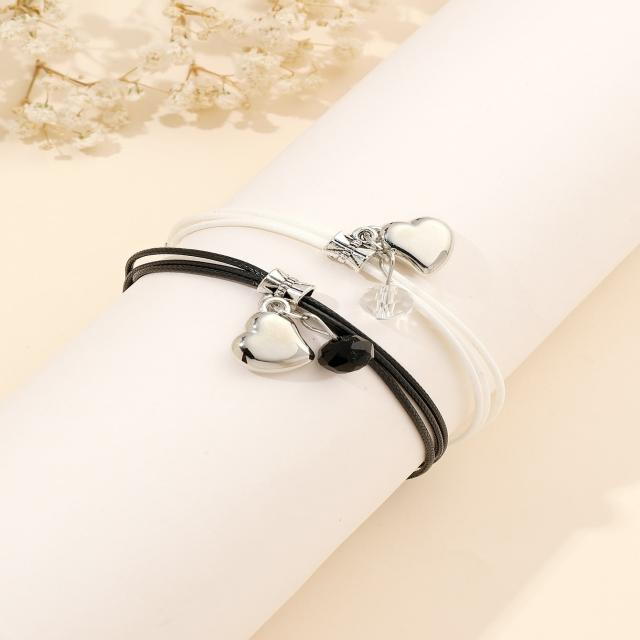bracelet: (93, 165, 555, 518)
